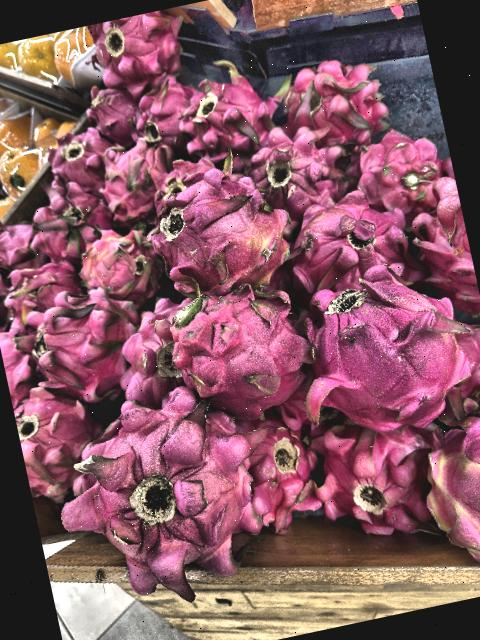buah-naga-belum-matang: (408, 404, 480, 589)
buah-naga-matang: (50, 383, 286, 615), (302, 260, 478, 437), (148, 276, 314, 441), (276, 168, 426, 312), (136, 166, 293, 302), (297, 412, 438, 560), (9, 292, 150, 406), (267, 44, 399, 164), (218, 405, 326, 545), (11, 382, 120, 510), (242, 115, 364, 227), (398, 178, 480, 328), (88, 5, 196, 94), (175, 60, 270, 156), (345, 118, 439, 212), (72, 222, 170, 312), (34, 121, 130, 206), (92, 138, 174, 225), (120, 72, 205, 152), (20, 186, 108, 255), (0, 252, 87, 321), (77, 76, 150, 148), (0, 321, 42, 408), (0, 210, 42, 277)
